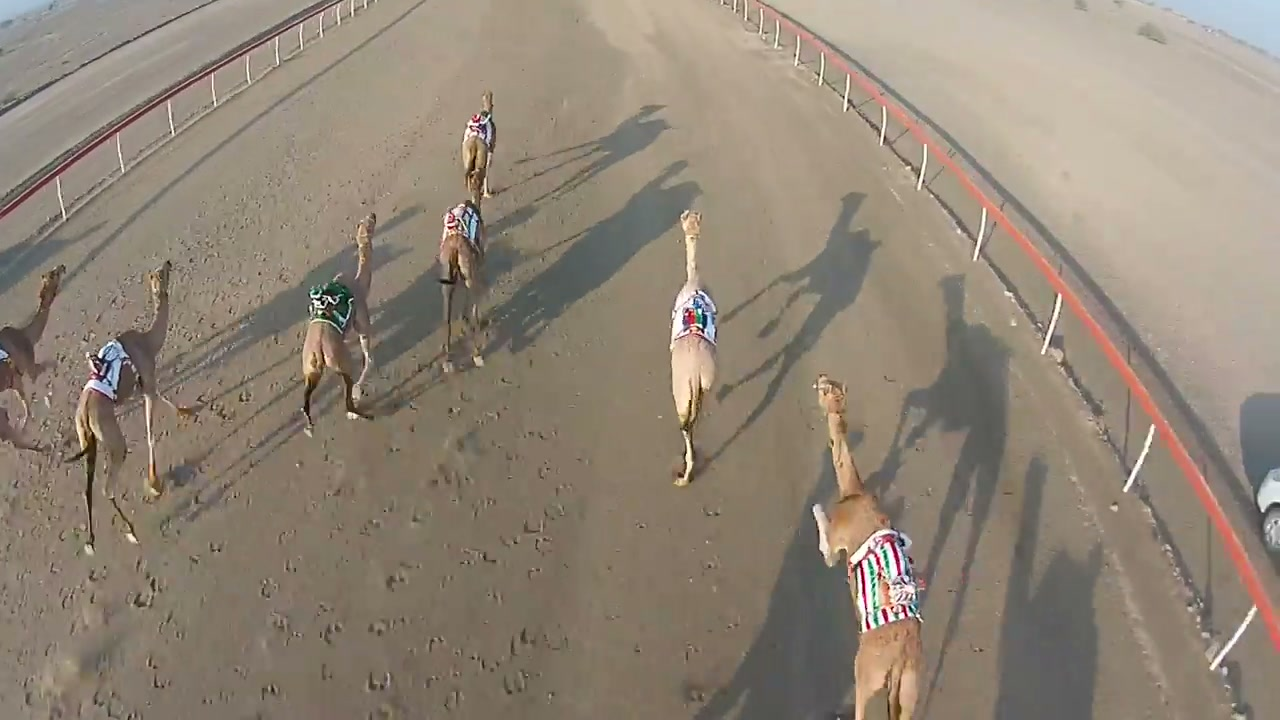animal_foot_print: (18, 378, 579, 718), (648, 444, 762, 718)
